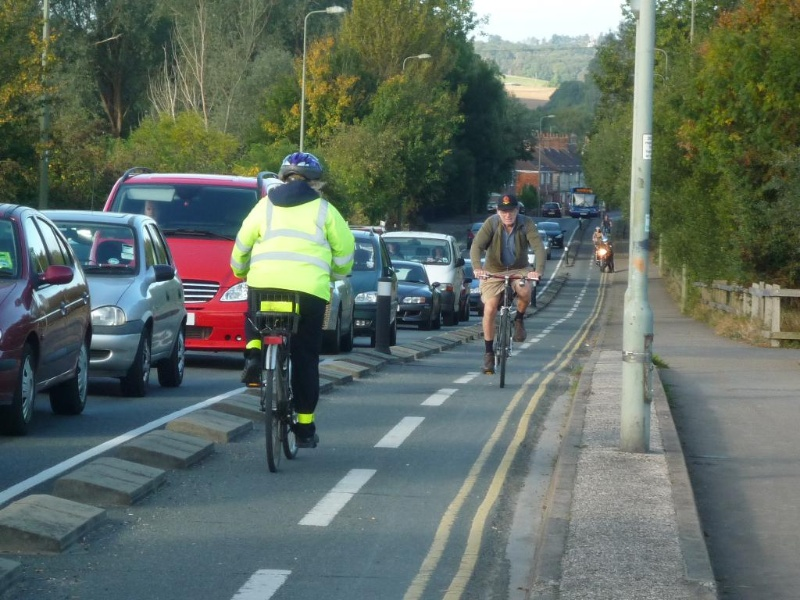helmet: (280, 151, 331, 180)
jacket: (245, 188, 352, 311)
